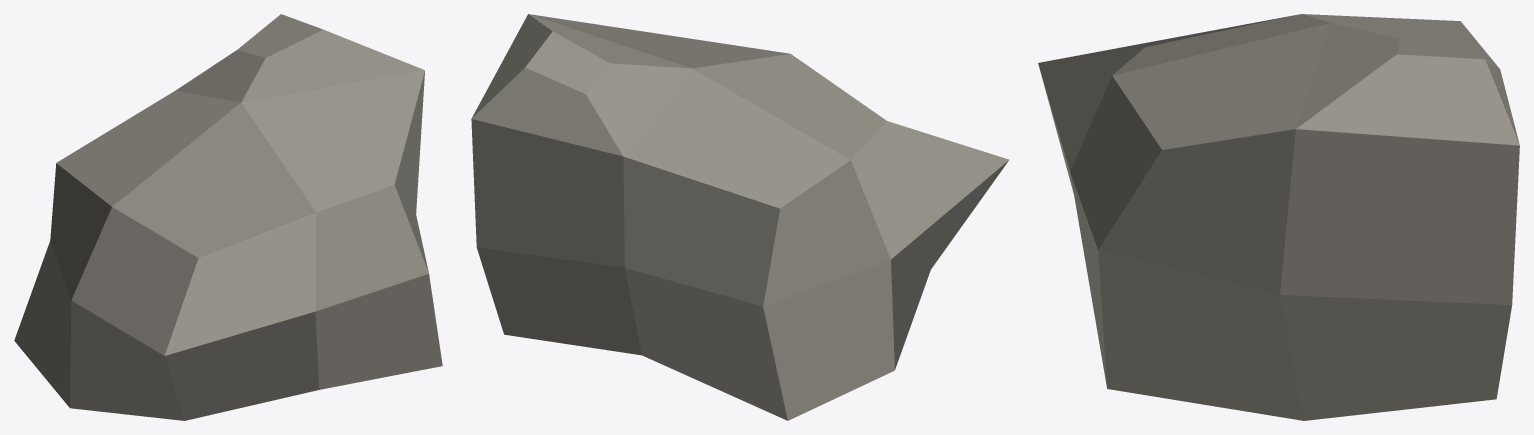
Rendered from Rock_13.fbx.
The picture shows the model from 3 angles, left to right: view 1: azimuth 30°, elevation 25°; view 2: azimuth 150°, elevation 25°; view 3: azimuth 270°, elevation 25°; orthographic projection. The views are drawn at different scales.
Parts seen in each view (by area): view 1: Rock_13; view 2: Rock_13; view 3: Rock_13.
Boxes of the visible parts, bbox=[...] form: Rock_13: bbox=[14, 14, 442, 420]; Rock_13: bbox=[471, 14, 1008, 420]; Rock_13: bbox=[1038, 14, 1519, 420].
Bounding box in the file's own units: 39.65 × 29.51 × 35.61.
